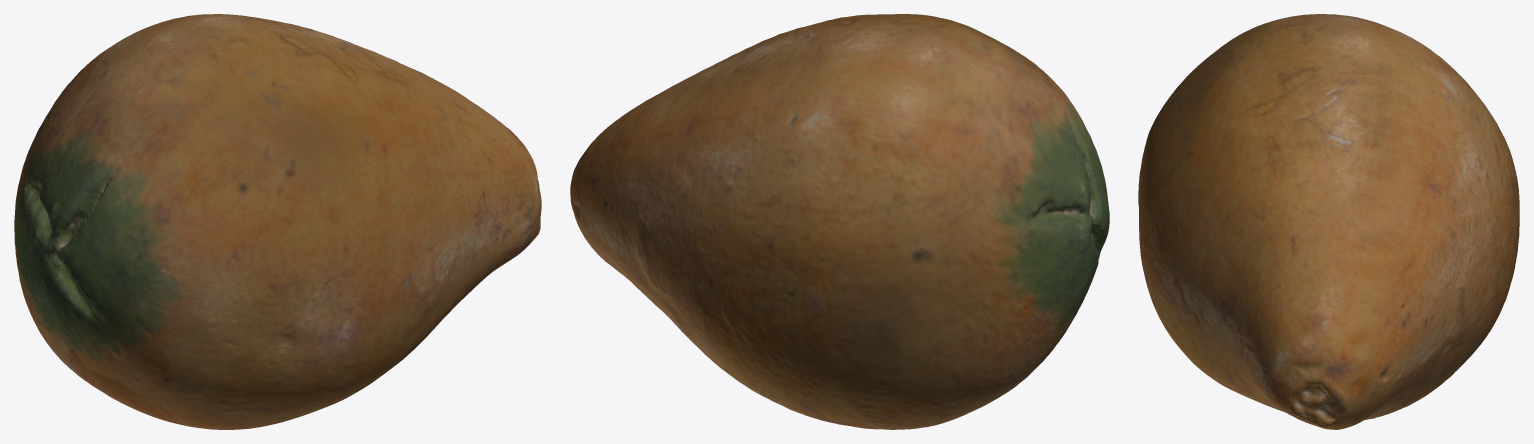
Rendered from cacao.glb.
3 views of the same model, side by side, from view 1: azimuth 30°, elevation 25°; view 2: azimuth 150°, elevation 25°; view 3: azimuth 270°, elevation 25° (orthographic). The views are drawn at different scales.
Parts seen in each view (by area): view 1: NHMW-AFW-DING-0046-047_3D-lowres; view 2: NHMW-AFW-DING-0046-047_3D-lowres; view 3: NHMW-AFW-DING-0046-047_3D-lowres.
Boxes of the visible parts, left/top/right/bottom form: NHMW-AFW-DING-0046-047_3D-lowres: left=14, top=14, right=541, bottom=429; NHMW-AFW-DING-0046-047_3D-lowres: left=570, top=14, right=1109, bottom=429; NHMW-AFW-DING-0046-047_3D-lowres: left=1138, top=14, right=1519, bottom=429.
Size of the model in its own units: 42.95 by 31.02 by 30.19.
1 material, 1 textured.
